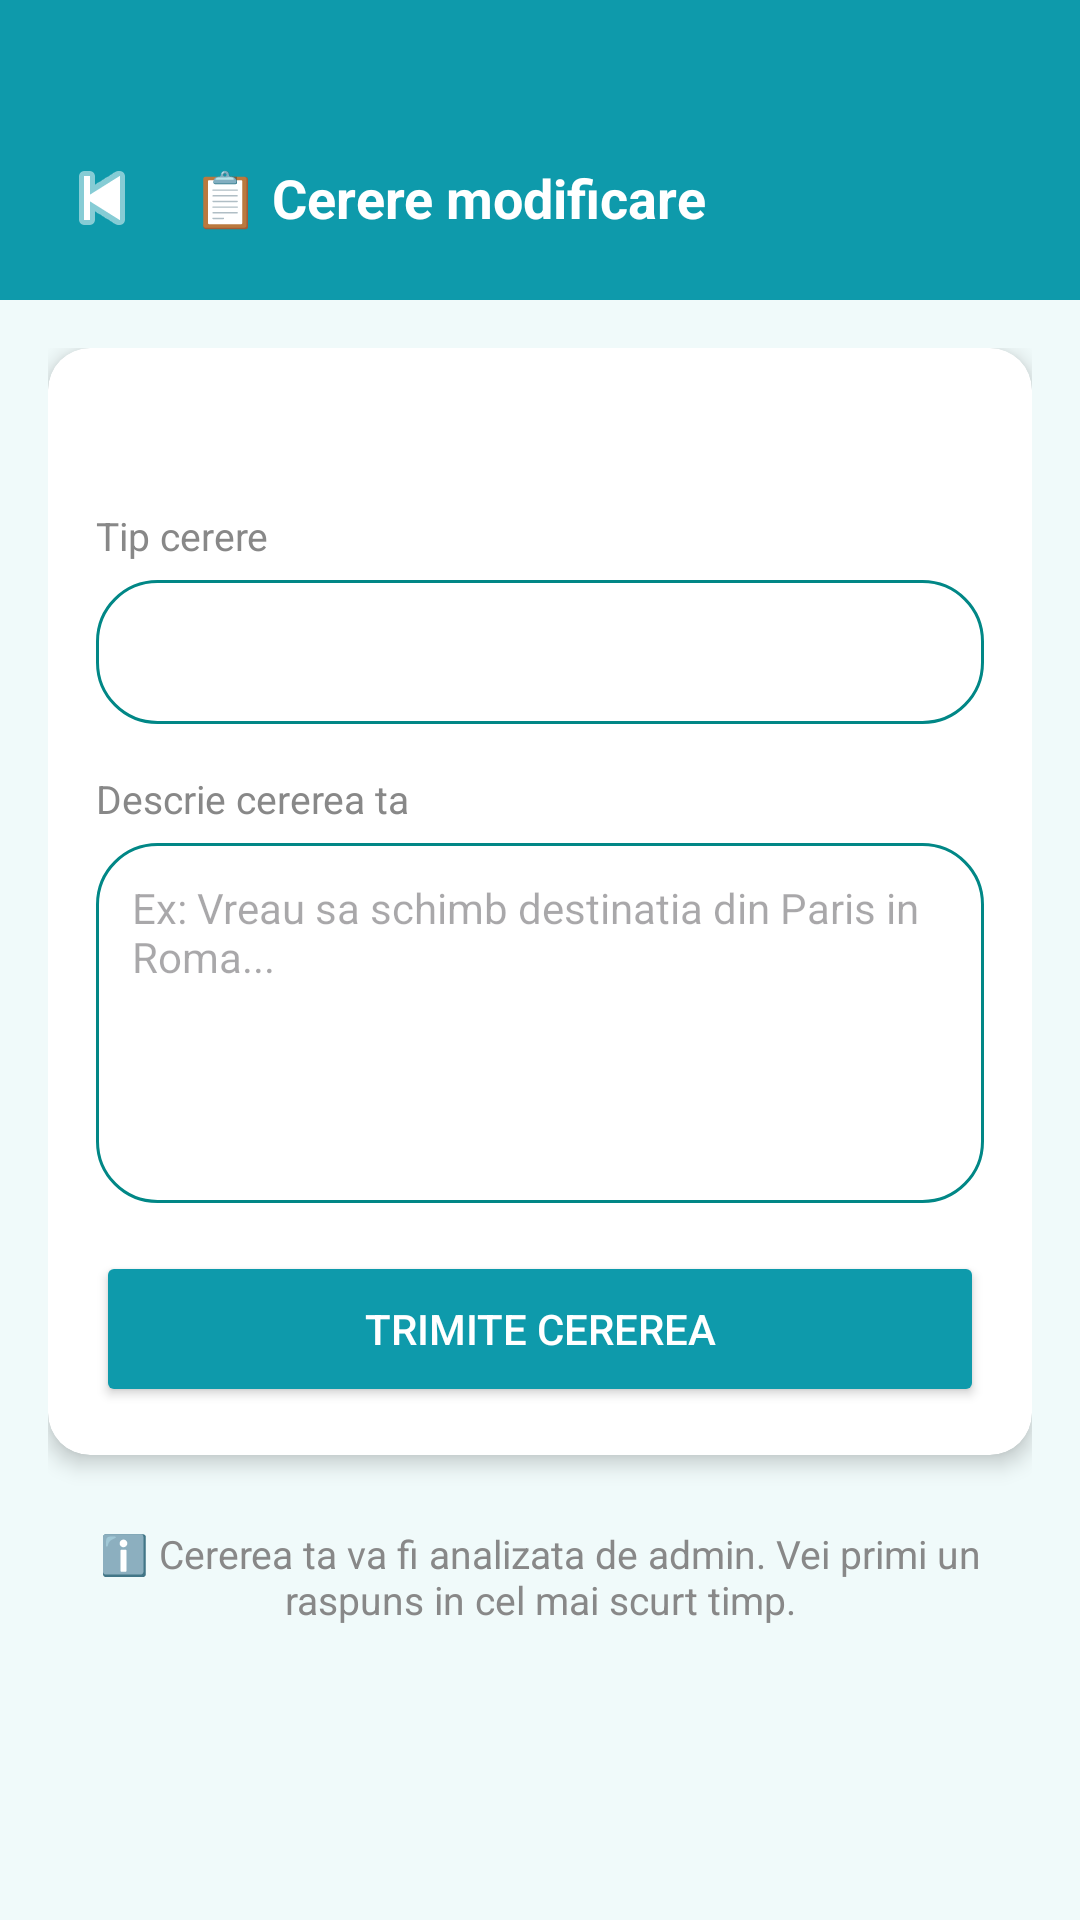

Locate icon controls on the screen. Image size 1080x1920, boxes as [x1=x1, y1=y1, x2=x2, y2=y2].
previous: [x1=79, y1=171, x2=125, y2=225]
